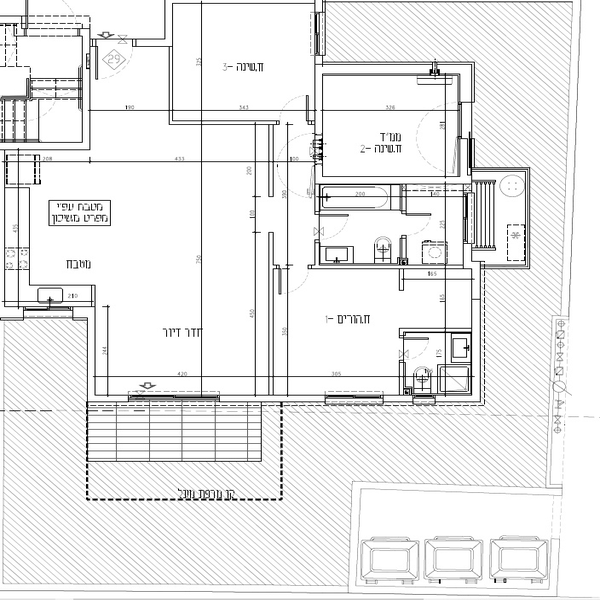door: (276, 92, 315, 123), (25, 90, 60, 124), (314, 211, 346, 245), (404, 212, 436, 237)
wall: (317, 166, 471, 192), (329, 63, 477, 82), (218, 394, 325, 404)
window: (126, 385, 218, 404), (326, 387, 387, 411), (310, 8, 327, 56), (462, 192, 477, 242), (27, 303, 71, 319), (413, 394, 440, 417), (457, 102, 469, 143)
